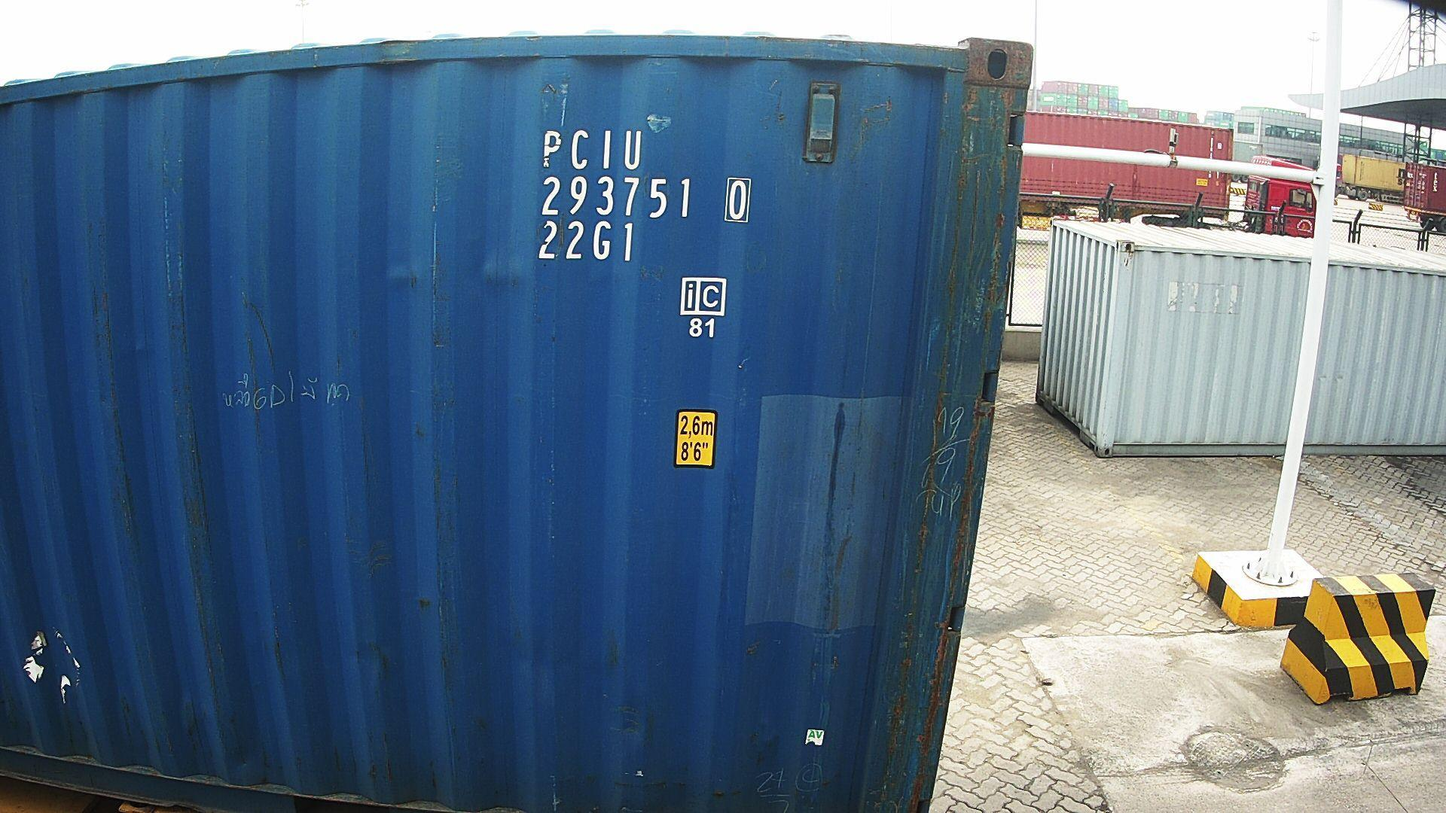container-numbers: (532, 172, 754, 227), (535, 125, 649, 172), (535, 218, 640, 266)
